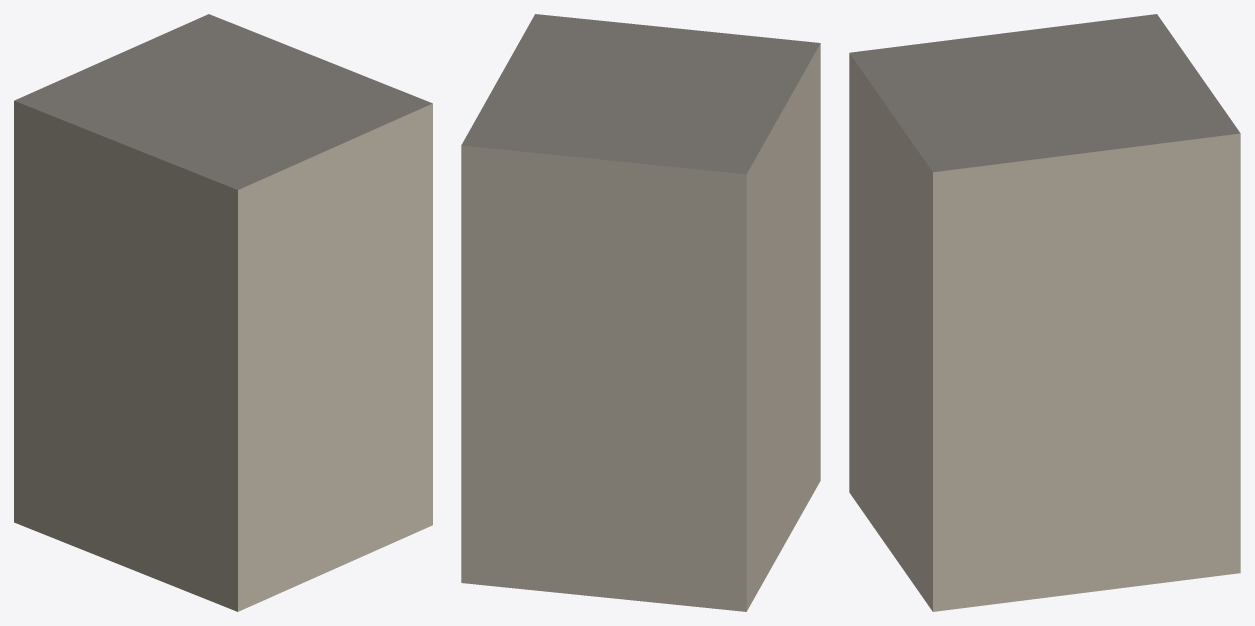
The picture shows the model from 3 angles, left to right: view 1: azimuth 30°, elevation 25°; view 2: azimuth 150°, elevation 25°; view 3: azimuth 270°, elevation 25°; orthographic projection. The views are drawn at different scales.
Parts seen in each view (by area): view 1: HP-w446933503; view 2: HP-w446933503; view 3: HP-w446933503.
Part boxes in pixels (x1,y1,x2,y2): HP-w446933503: (14, 14, 432, 611); HP-w446933503: (461, 14, 820, 611); HP-w446933503: (849, 14, 1240, 611).
Size of the model in its own units: 13.9 by 18 by 14.52.
